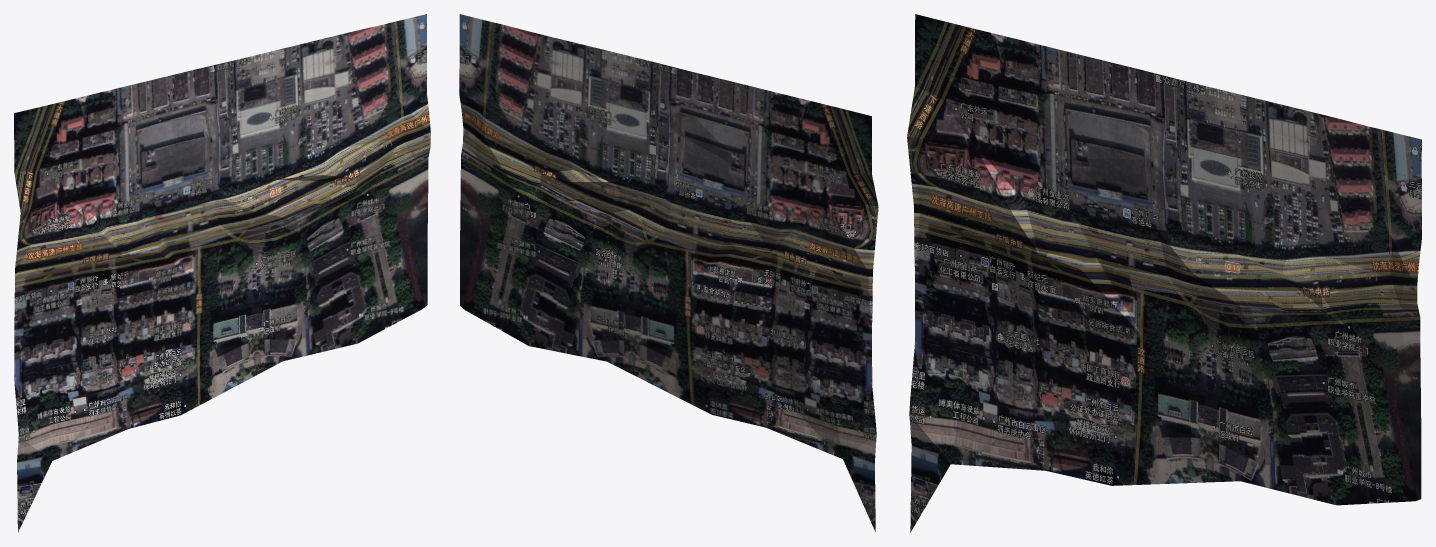
3 views of the same model, side by side, from view 1: azimuth 30°, elevation 25°; view 2: azimuth 150°, elevation 25°; view 3: azimuth 330°, elevation 25° (orthographic). The views are drawn at different scales.
Parts seen in each view (by area): view 1: 0_0_1_3_2_1; view 2: 0_0_1_3_2_1; view 3: 0_0_1_3_2_1.
Boxes of the visible parts, <box> form: 0_0_1_3_2_1: <box>14,14,430,532</box>; 0_0_1_3_2_1: <box>459,14,878,531</box>; 0_0_1_3_2_1: <box>907,14,1421,532</box>.
Bounding box in the file's own units: 486 × 471 × 13.53.
1 material, 1 textured.
